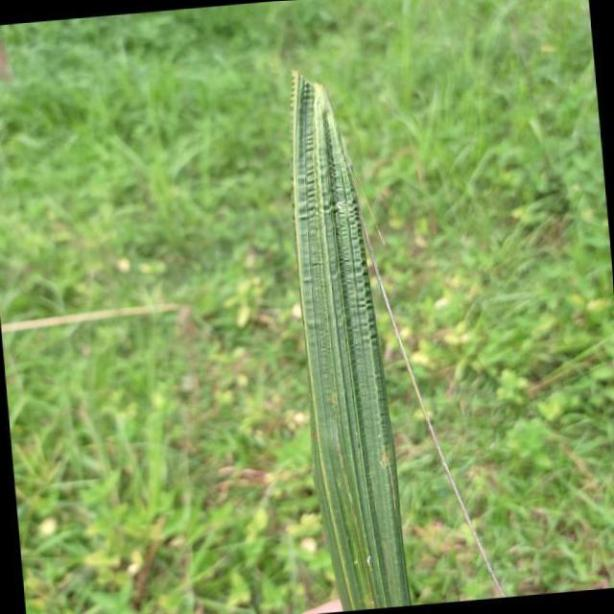Boron: (289, 69, 419, 614)
